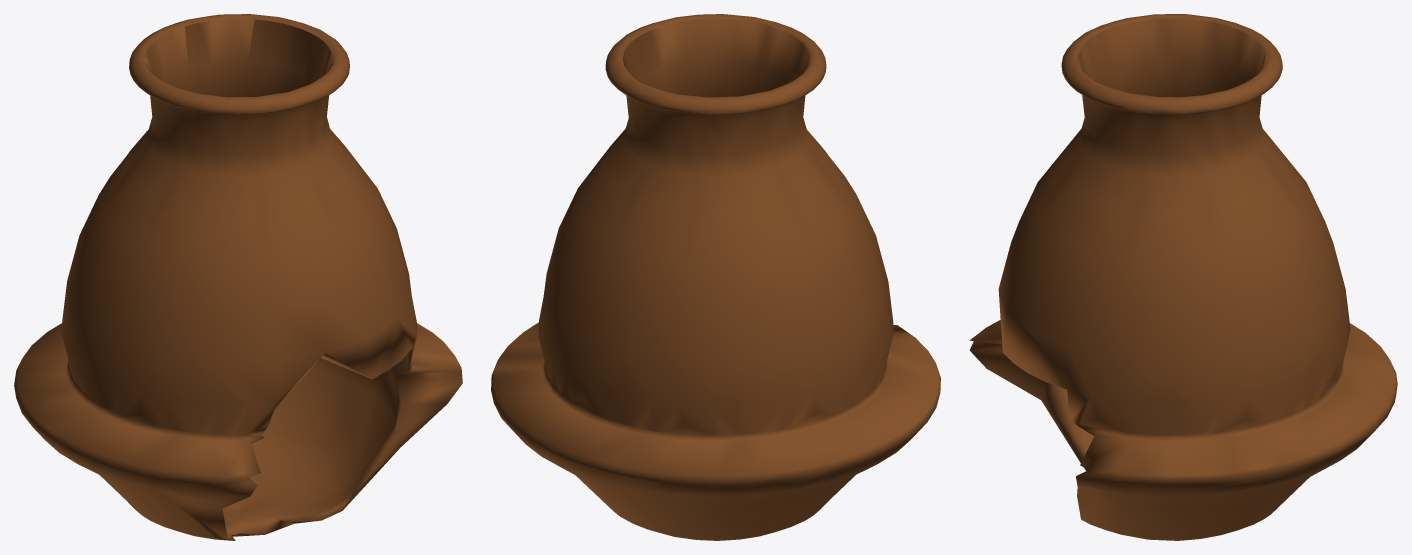
File: Urn_Three_1128.fbx
3 renders of one model, left to right at view 1: azimuth 30°, elevation 25°; view 2: azimuth 150°, elevation 25°; view 3: azimuth 270°, elevation 25°, orthographic.
Visible parts, largest first — view 1: Urn_Three; view 2: Urn_Three; view 3: Urn_Three.
Boxes of the visible parts, x1=… form: Urn_Three: x1=14, y1=14, x2=462, y2=540; Urn_Three: x1=491, y1=14, x2=940, y2=540; Urn_Three: x1=969, y1=14, x2=1397, y2=540.
Bounding box in the file's own units: 703 × 781 × 668.
